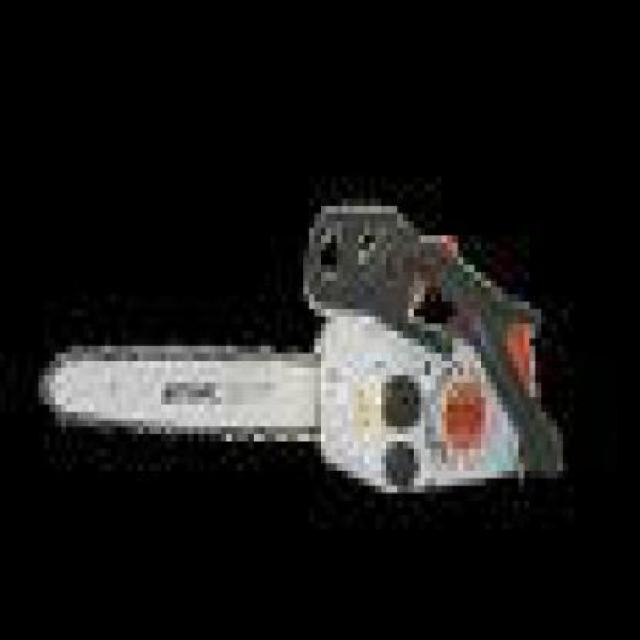Chainsaw: (35, 198, 568, 498)
